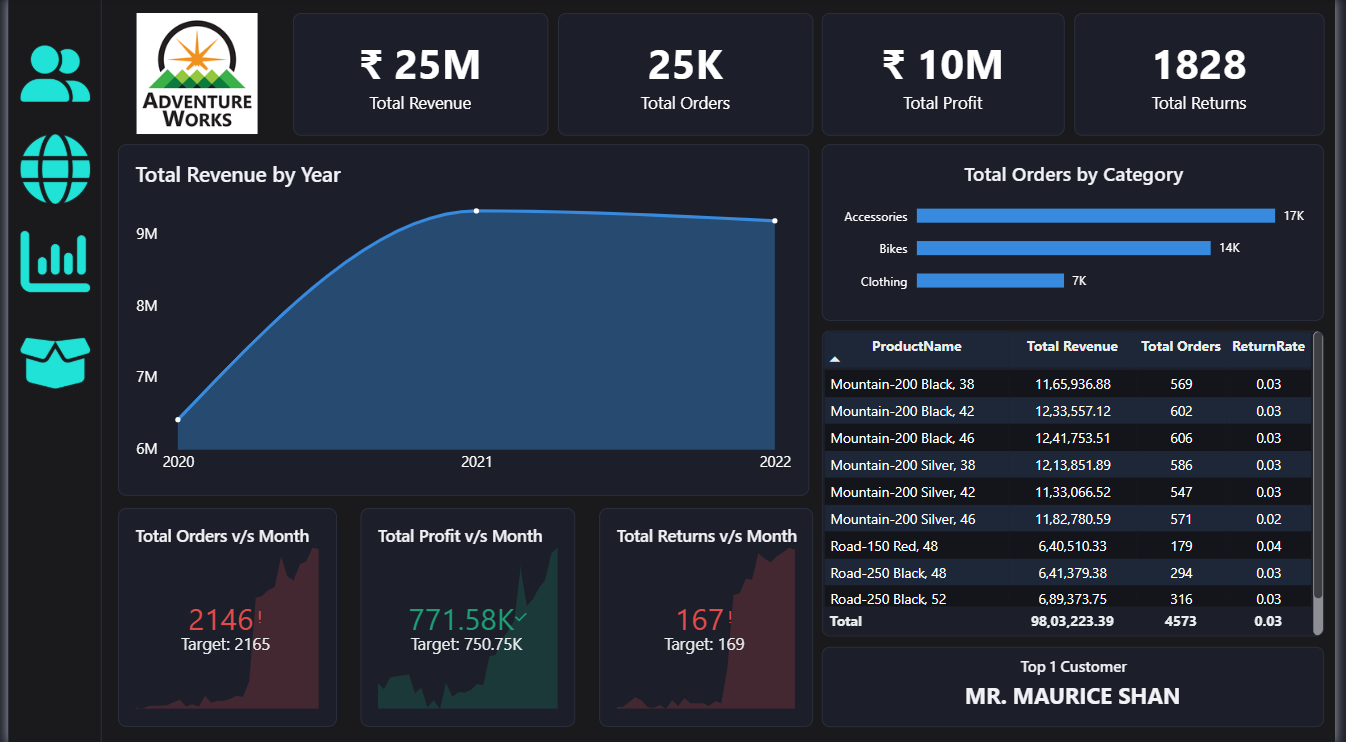

This screenshot's page, from the dashboard's own definition file:
{"tool":"powerbi","page":{"name":"Executive Dashboard","canvas":[1280,720],"ordinal":0},"visuals":[{"type":"card","fields":{"Values":["Measure.TotalRevenue"]},"box":[274.8,14.5,246.1,118.2],"z":0},{"type":"shape","box":[0,0,90.5,720.2],"z":1000},{"type":"card","fields":{"Values":["Measure.TotalOrders"]},"box":[530.2,14.5,246.1,118.2],"z":2000},{"type":"card","fields":{"Values":["Measure.TotalProfit"]},"box":[785.7,14.5,234,118.2],"z":3000},{"type":"card","fields":{"Values":["Measure.TotalReturns"]},"box":[1029.1,14.5,241.3,118.2],"z":4000},{"type":"image","box":[90.5,14.5,184.6,117],"z":5000},{"type":"clusteredBarChart","title":"Total Orders by Category","fields":{"Category":["Dim_Categories.CategoryName"],"Y":["Measure.Total Orders"]},"box":[785.4,141.2,485,170.1],"z":6000},{"type":"lineChart","fields":{"Category":["Dim_Calendar.Year To Day.Year","Dim_Calendar.Year To Day.Start of Quarter","Dim_Calendar.Year To Day.Start of Month","Dim_Calendar.Year To Day.Start of Week","Dim_Calendar.Year To Day.Date"],"Y":["Measure.Total Revenue"]},"box":[106.2,141.2,667.2,339],"z":7000},{"type":"kpi","title":"Total Orders v/s Month","fields":{"Goal":["Measure.Previous Month Order"],"Indicator":["Measure.Total Orders"],"TrendLine":["Dim_Calendar.Start of Month"]},"box":[106.2,492.2,211.1,211.1],"z":8000},{"type":"kpi","title":"Total Profit v/s Month","fields":{"Goal":["Measure.Previous Month Profit"],"Indicator":["Measure.Total Profit"],"TrendLine":["Dim_Calendar.Start of Month"]},"box":[340.2,492.2,207.5,211.1],"z":9000},{"type":"kpi","title":"Total Returns v/s Month","fields":{"Goal":["Measure.Previous Month Returns"],"Indicator":["Measure.Total Returns"],"TrendLine":["Dim_Calendar.Start of Month"]},"box":[570.6,492.2,206.3,211.1],"z":10000},{"type":"tableEx","fields":{"Values":["Dim_Product.ProductName","Measure.Total Revenue","Measure.Total Orders","Measure.ReturnRate"]},"box":[785.4,320.9,485,295.6],"z":11000},{"type":"card","title":"Top 1 Customer","fields":{"Values":["Min(Dim_Customer.Full Name)"]},"box":[785.4,626.1,485,77.2],"z":12000},{"type":"image","box":[12.1,33.8,67.6,78.4],"z":13000,"group":"g1"},{"type":"image","box":[12.1,131.5,67.6,67.6],"z":14000,"group":"g1"},{"type":"image","box":[12.1,216,67.6,77.2],"z":15000,"group":"g1"},{"type":"image","box":[12.1,311.3,67.6,82],"z":17000,"group":"g1"},{"type":"group","id":"g1","title":"Group 1","box":[12.1,33.8,67.6,359.5],"z":17001}]}

Visuals, with their boxes in screenshot pixels (x1, y1, x2, y2), scaled from the page's 1280x720 canvas onto the 1346x742 screenshot:
card - Measure.TotalRevenue: locate(289, 15, 548, 137)
shape: locate(0, 0, 95, 741)
card - Measure.TotalOrders: locate(558, 15, 816, 137)
card - Measure.TotalProfit: locate(826, 15, 1072, 137)
card - Measure.TotalReturns: locate(1082, 15, 1336, 137)
image: locate(95, 15, 289, 136)
"Total Orders by Category" clusteredBarChart: locate(826, 146, 1336, 321)
lineChart - Dim_Calendar.Year To Day.Year x Dim_Calendar.Year To Day.Start of Quarter: locate(112, 146, 813, 495)
"Total Orders v/s Month" kpi: locate(112, 507, 334, 725)
"Total Profit v/s Month" kpi: locate(358, 507, 576, 725)
"Total Returns v/s Month" kpi: locate(600, 507, 817, 725)
tableEx - Dim_Product.ProductName x Measure.Total Revenue: locate(826, 331, 1336, 635)
"Top 1 Customer" card: locate(826, 645, 1336, 725)
image: locate(13, 35, 84, 116)
image: locate(13, 136, 84, 205)
image: locate(13, 223, 84, 302)
image: locate(13, 321, 84, 405)
"Group 1" group: locate(13, 35, 84, 405)
